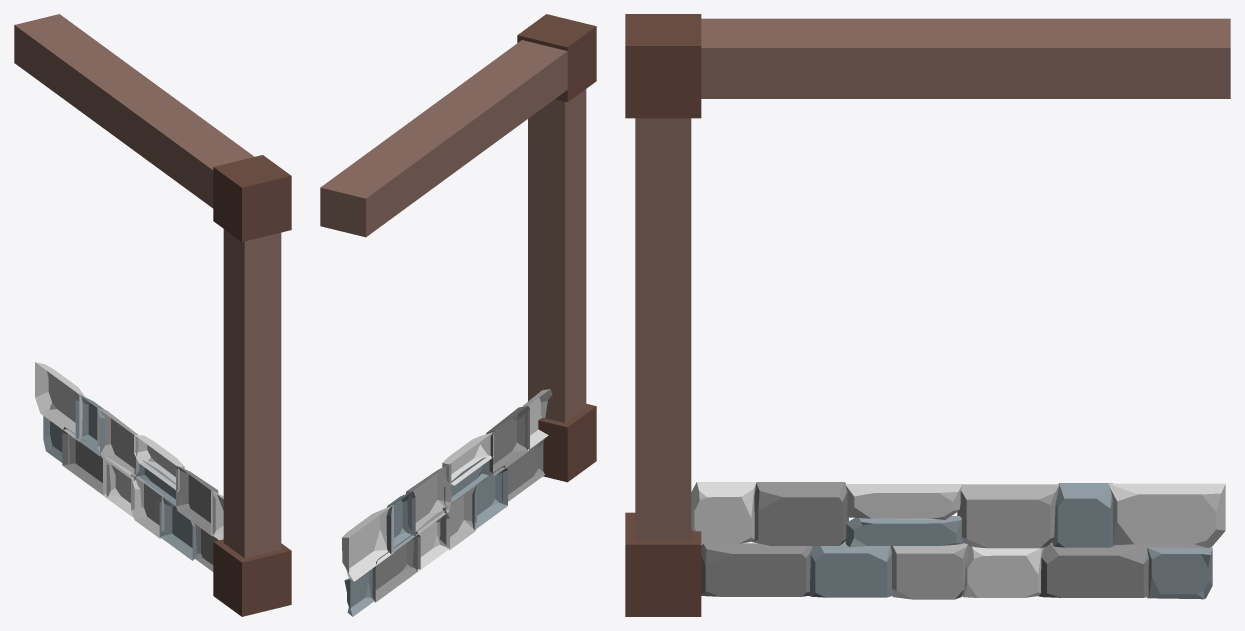
Rendered from wallwood.glb.
The picture shows the model from 3 angles, left to right: view 1: azimuth 30°, elevation 25°; view 2: azimuth 150°, elevation 25°; view 3: azimuth 270°, elevation 25°; orthographic projection. The views are drawn at different scales.
Visible parts, largest first — view 1: wall_236.012, wall_236.015, wall_195.010, wall_195.015, stone_item_097.004, stone_item_095.001, stone_item_103.002, stone_item_106.001, stone_item_096.001, stone_item_097.003, stone_item_097.001, stone_item_096.002 (+5 smaller); view 2: wall_236.015, wall_236.012, wall_195.010, wall_195.015, stone_item_097.004, stone_item_103.002, stone_item_095.001, stone_item_106.001, stone_item_103.001, stone_item_096.001, stone_item_097.003, stone_item_098.001 (+5 smaller); view 3: wall_236.015, wall_236.012, wall_195.010, stone_item_097.004, wall_195.015, stone_item_103.002, stone_item_095.001, stone_item_098.001, stone_item_106.001, stone_item_096.001, stone_item_103.001, stone_item_097.003 (+5 smaller).
Part boxes in pixels (x1,y1,x2,y2): wall_236.012: (223, 229, 281, 558); wall_236.015: (14, 14, 254, 208); wall_195.010: (213, 155, 291, 241); wall_195.015: (213, 539, 291, 616); stone_item_097.004: (35, 362, 84, 441); stone_item_095.001: (176, 466, 218, 536); stone_item_103.002: (97, 408, 139, 480); stone_item_106.001: (62, 427, 110, 497); stone_item_096.001: (159, 495, 196, 560); stone_item_097.003: (134, 435, 184, 491); stone_item_097.001: (103, 455, 141, 518); stone_item_096.002: (75, 393, 105, 456); wall_236.015: (320, 40, 567, 237); wall_236.012: (528, 89, 586, 422); wall_195.010: (517, 14, 596, 102); wall_195.015: (538, 403, 596, 482); stone_item_097.004: (342, 505, 393, 581); stone_item_103.002: (406, 463, 451, 535); stone_item_095.001: (486, 406, 529, 476); stone_item_106.001: (372, 533, 420, 602); stone_item_103.001: (440, 486, 476, 550); stone_item_096.001: (472, 465, 507, 529); stone_item_097.003: (442, 432, 493, 485); stone_item_098.001: (502, 438, 545, 502); wall_236.015: (701, 18, 1230, 98); wall_236.012: (635, 118, 691, 540); wall_195.010: (625, 14, 701, 118); stone_item_097.004: (1108, 483, 1225, 547); wall_195.015: (625, 512, 701, 616); stone_item_103.002: (957, 484, 1059, 548); stone_item_095.001: (752, 482, 848, 545); stone_item_098.001: (701, 543, 812, 596); stone_item_106.001: (1038, 542, 1148, 597); stone_item_096.001: (809, 541, 893, 597); stone_item_103.001: (891, 543, 968, 599); stone_item_097.003: (845, 484, 962, 519).
Size of the model in its own units: 0.4832 by 4 by 3.84.
Materials: 1 (1 with a texture image).
